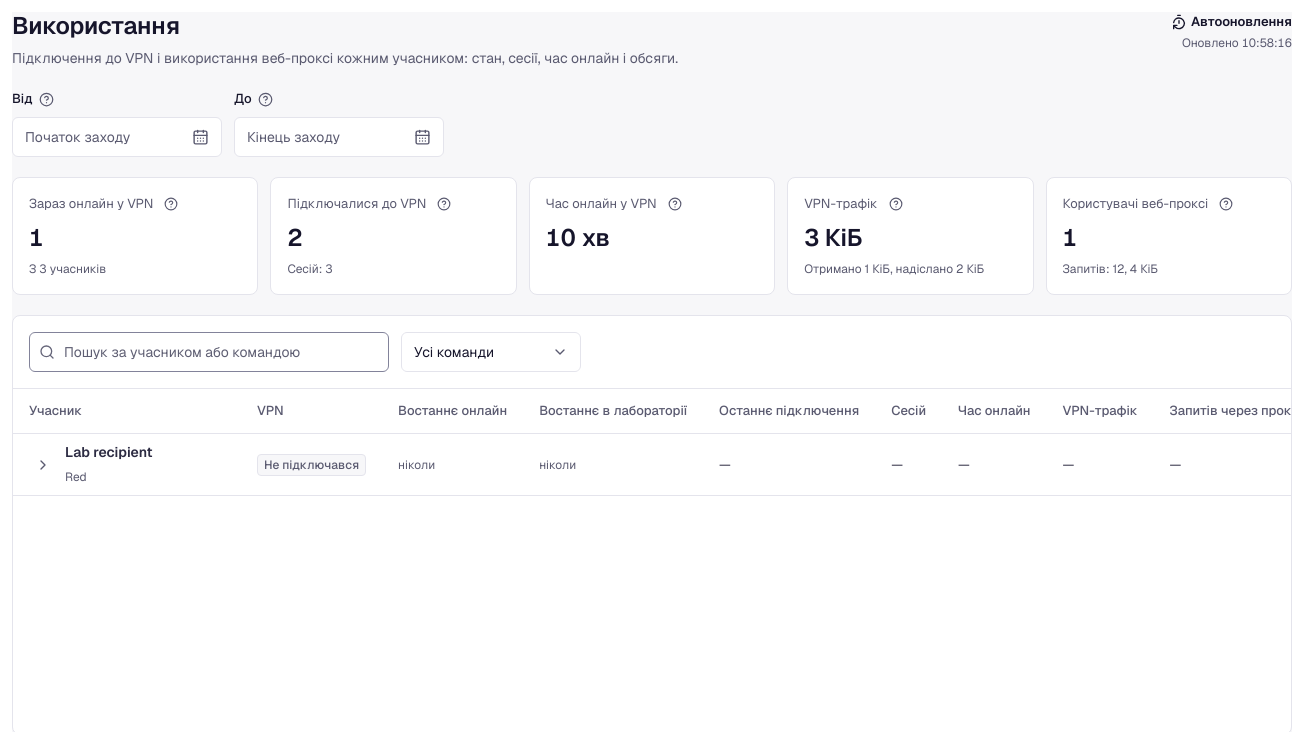
Test: Використання › keeps lab-initiated connections separate with 7 participant attempts
Expected: the text "Не підключався" is shown, [257,454,366,476]
What coordinates should you click on to do the following:
click the button named "Подробиці: Lab recipient"
I would click on:
 (43, 465)
Its box is [29,451,57,479].
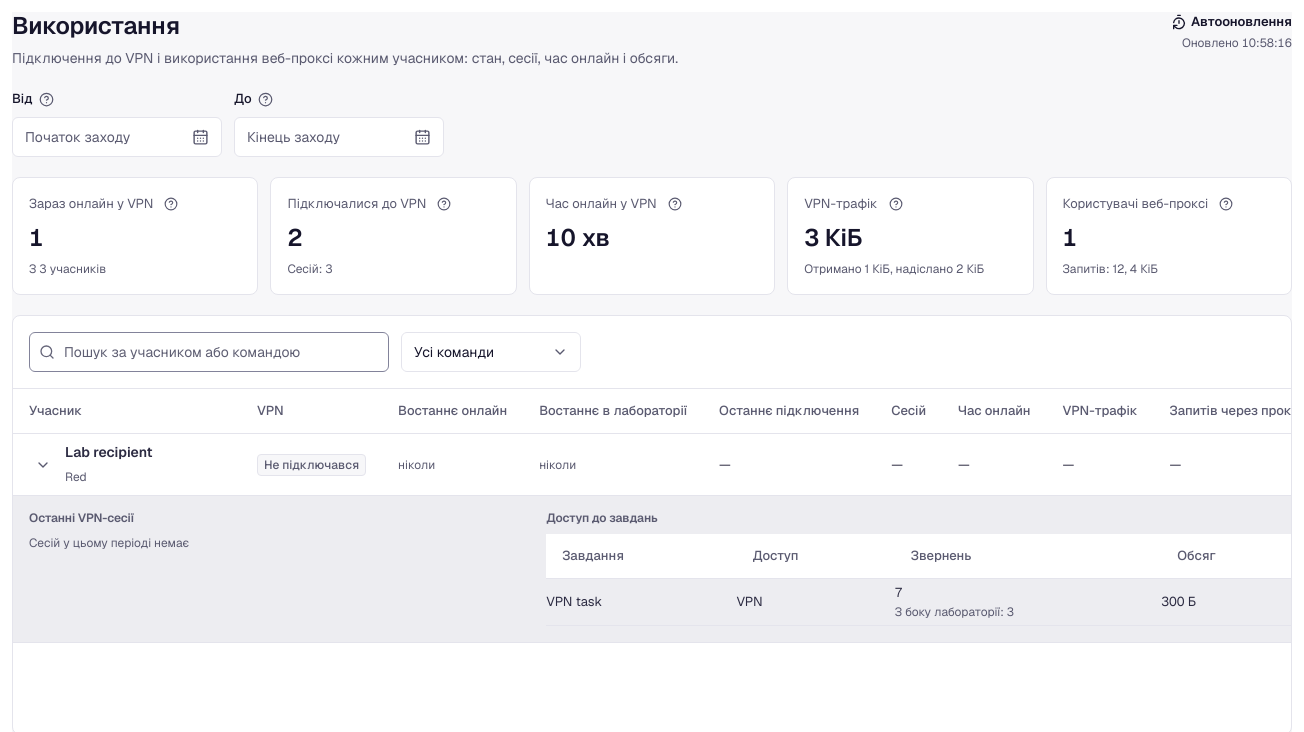
Result: the text "7" is shown at [895,584,903,601]
Result: the text "З боку лабораторії: 3" is shown at [895,604,1014,620]
